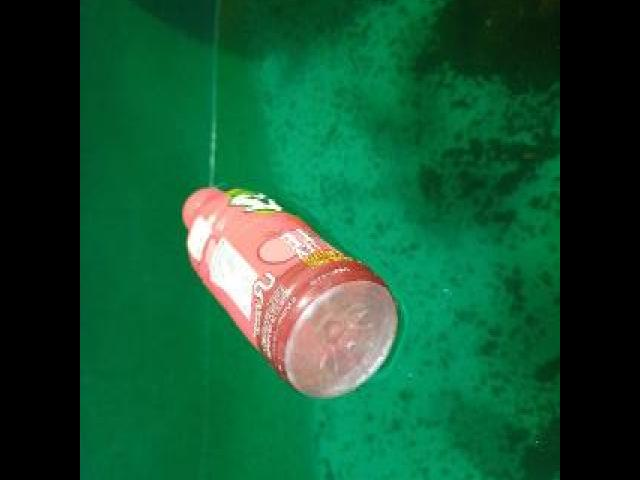Bottle: (176, 168, 406, 407)
